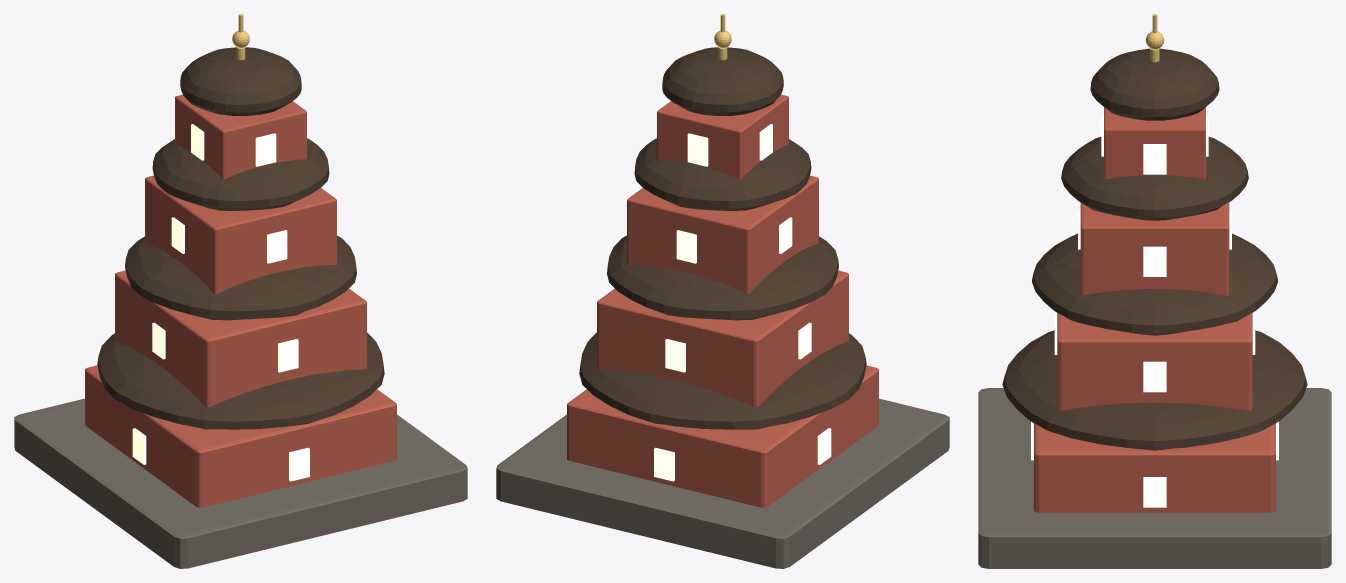
File: pagoda.glb
3 views of the same model, side by side, from view 1: azimuth 30°, elevation 25°; view 2: azimuth 150°, elevation 25°; view 3: azimuth 270°, elevation 25° (orthographic). The views are drawn at different scales.
Visible parts, largest first — view 1: Pagoda; view 2: Pagoda; view 3: Pagoda.
Boxes of the visible parts, x1,y1,x2,y2 form: Pagoda: (14, 14, 467, 568); Pagoda: (496, 14, 949, 568); Pagoda: (978, 14, 1331, 568).
Bounding box in the file's own units: 3.8 × 5.7 × 3.8.
